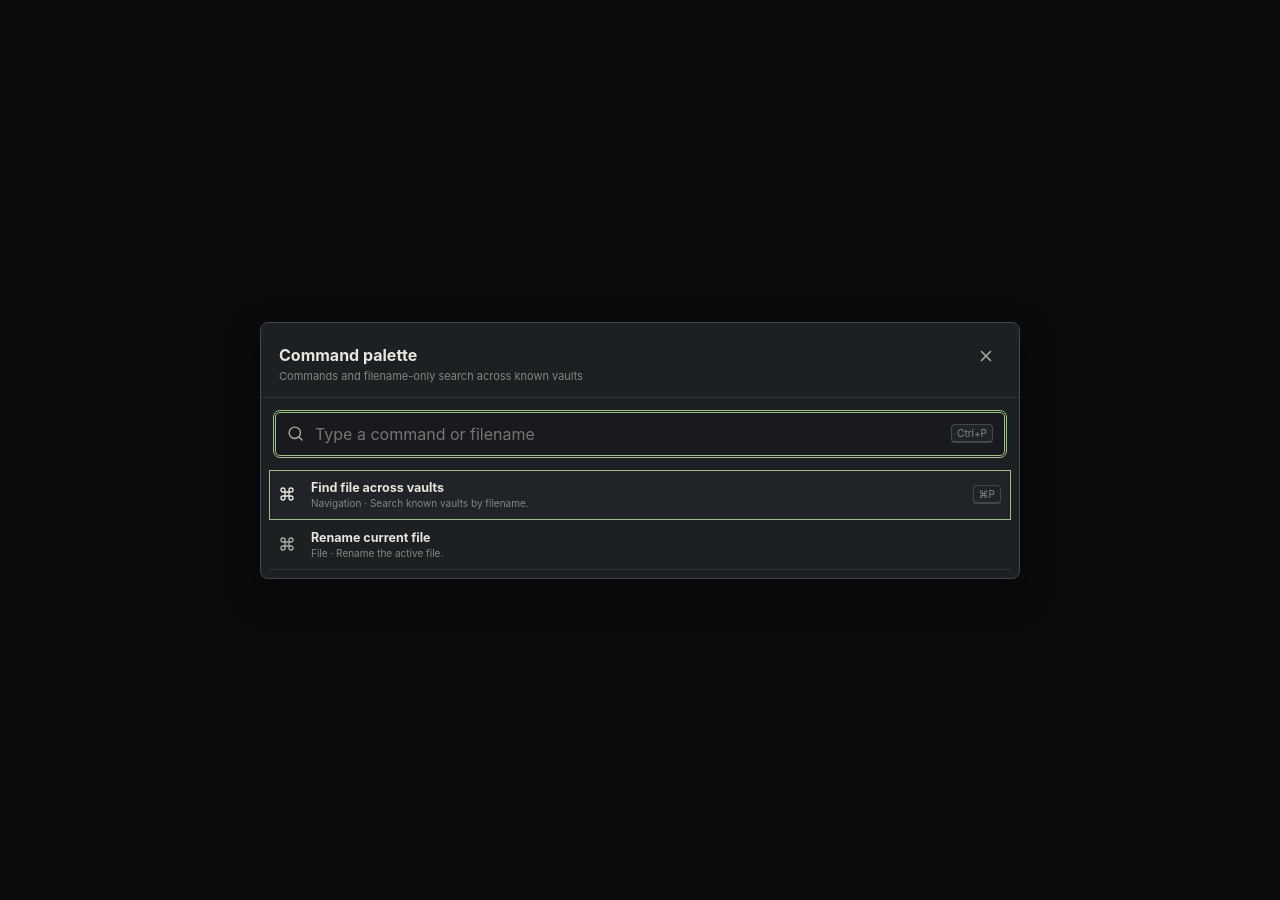
Test: CommandPalette › switches to a file-only view from the find-file command
Step 1. Click the option "Find file across vaults" → point(378, 487), box [269,470,1011,520]
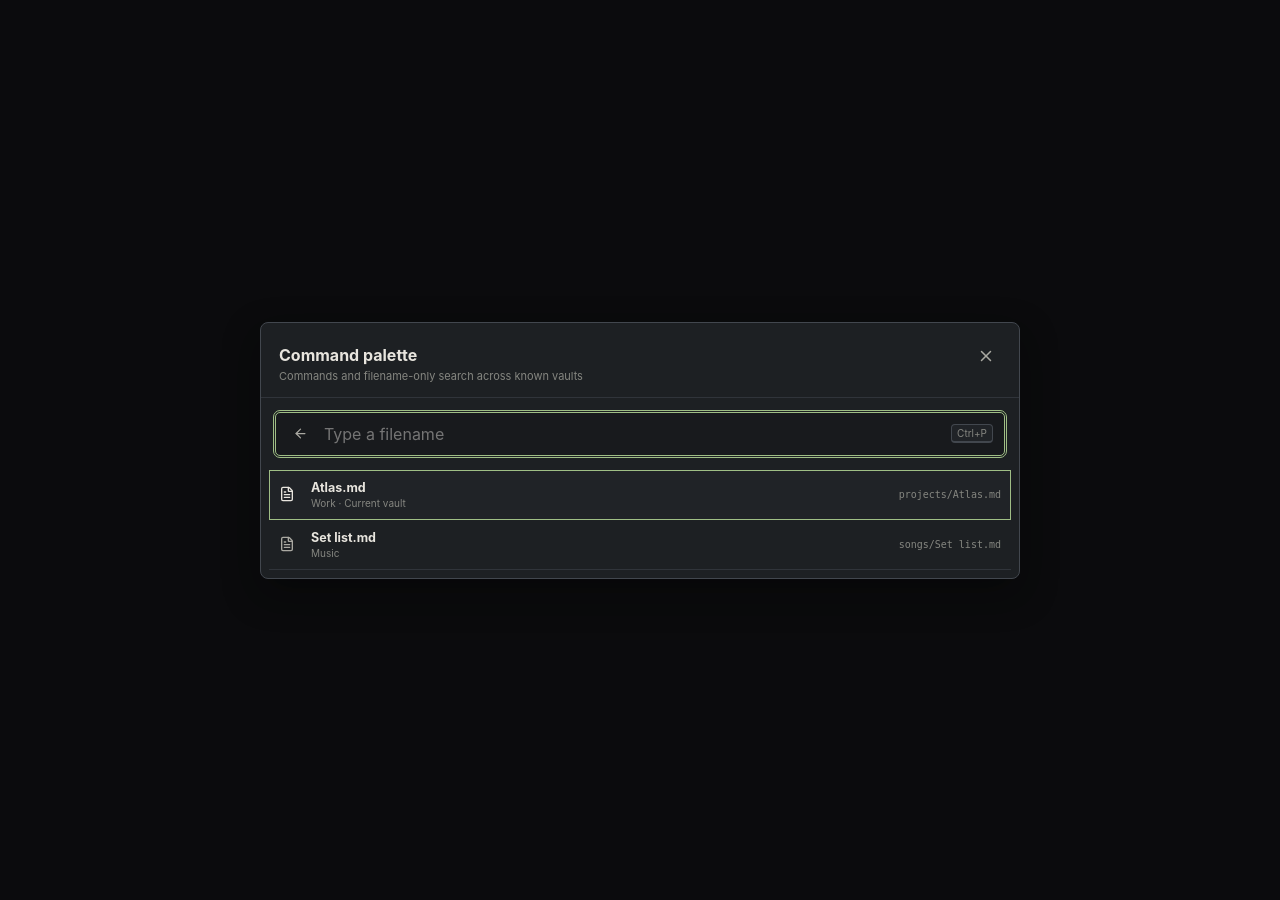
Check: the dropdown named "Search filenames across vaults" is shown, box [322,422,942,444]
Check: the option "Atlas.md Work · Current vault projects/Atlas.md" is shown, box [269,470,1011,520]
